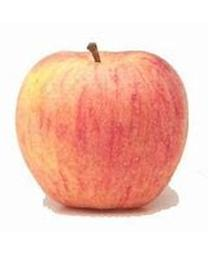apple: (15, 42, 190, 210)
